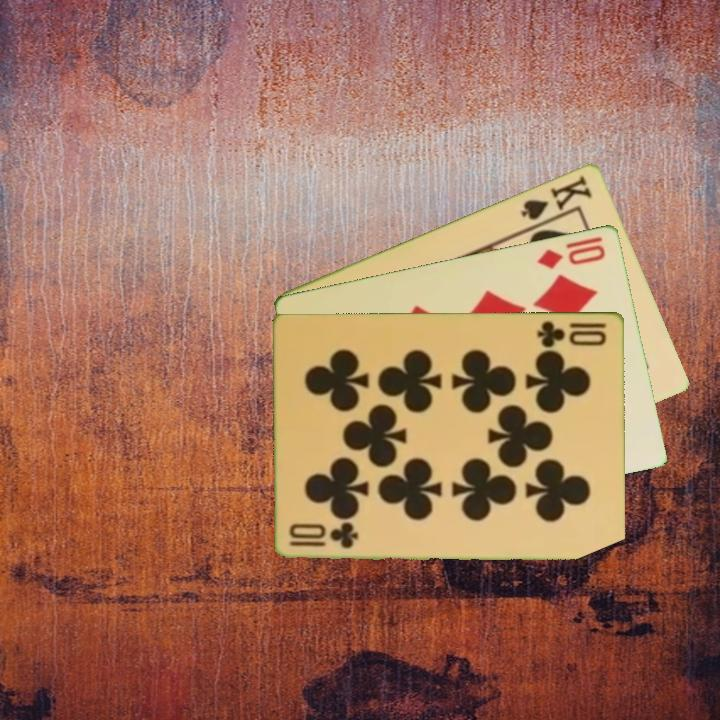10c: (534, 317, 609, 350), (286, 522, 361, 551)
10d: (534, 232, 609, 272)
Ks: (517, 170, 595, 230)
